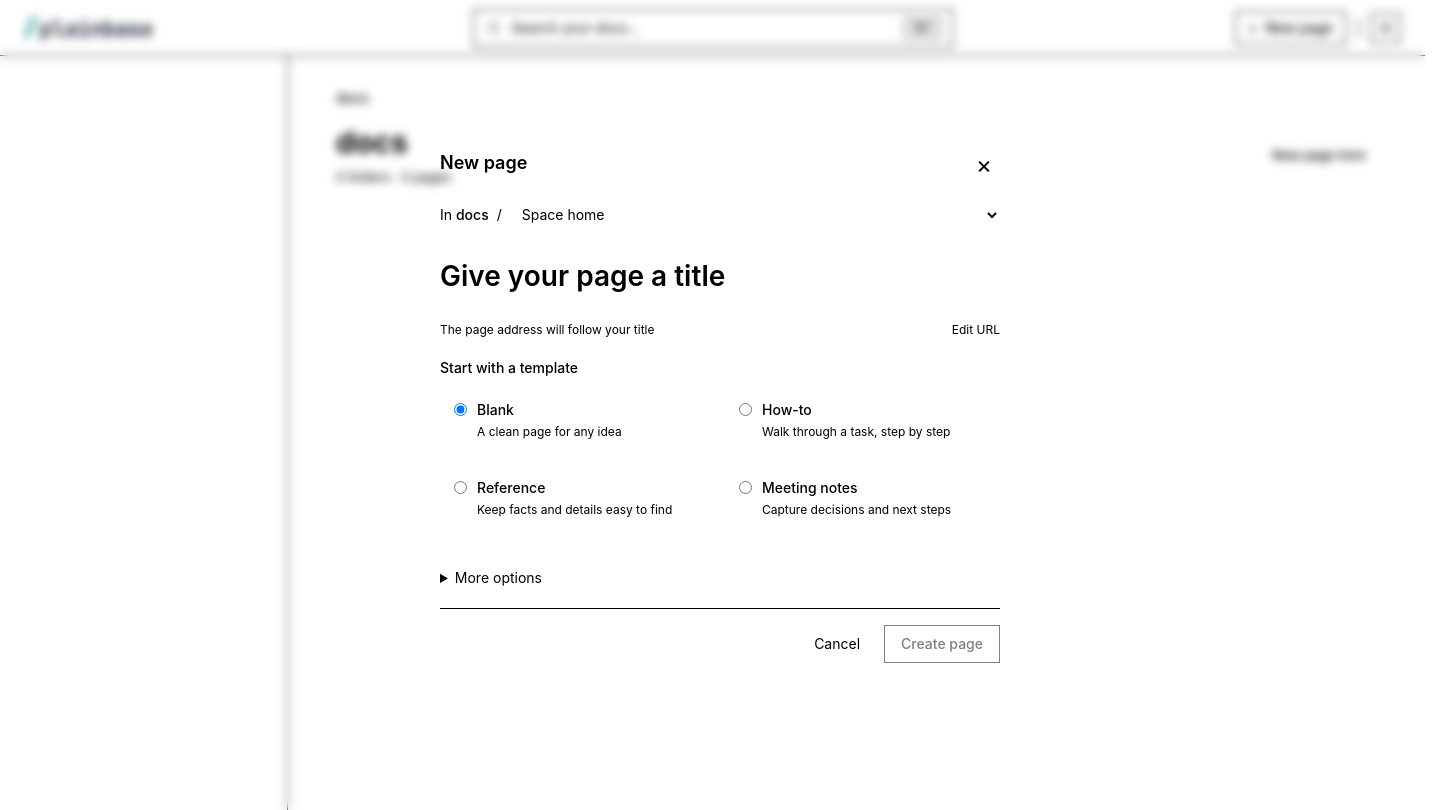
it: W6 new-page creation › a fetch rejection (offline) shows a save-failed notice instead of a silent error (FIX 4)
Expected: the element that starts with "New page" is shown, [440,147,1000,663]
Type "My New Page" into the field with placeholder "Give your page a title" at (720, 276), box [440,251,1000,302]
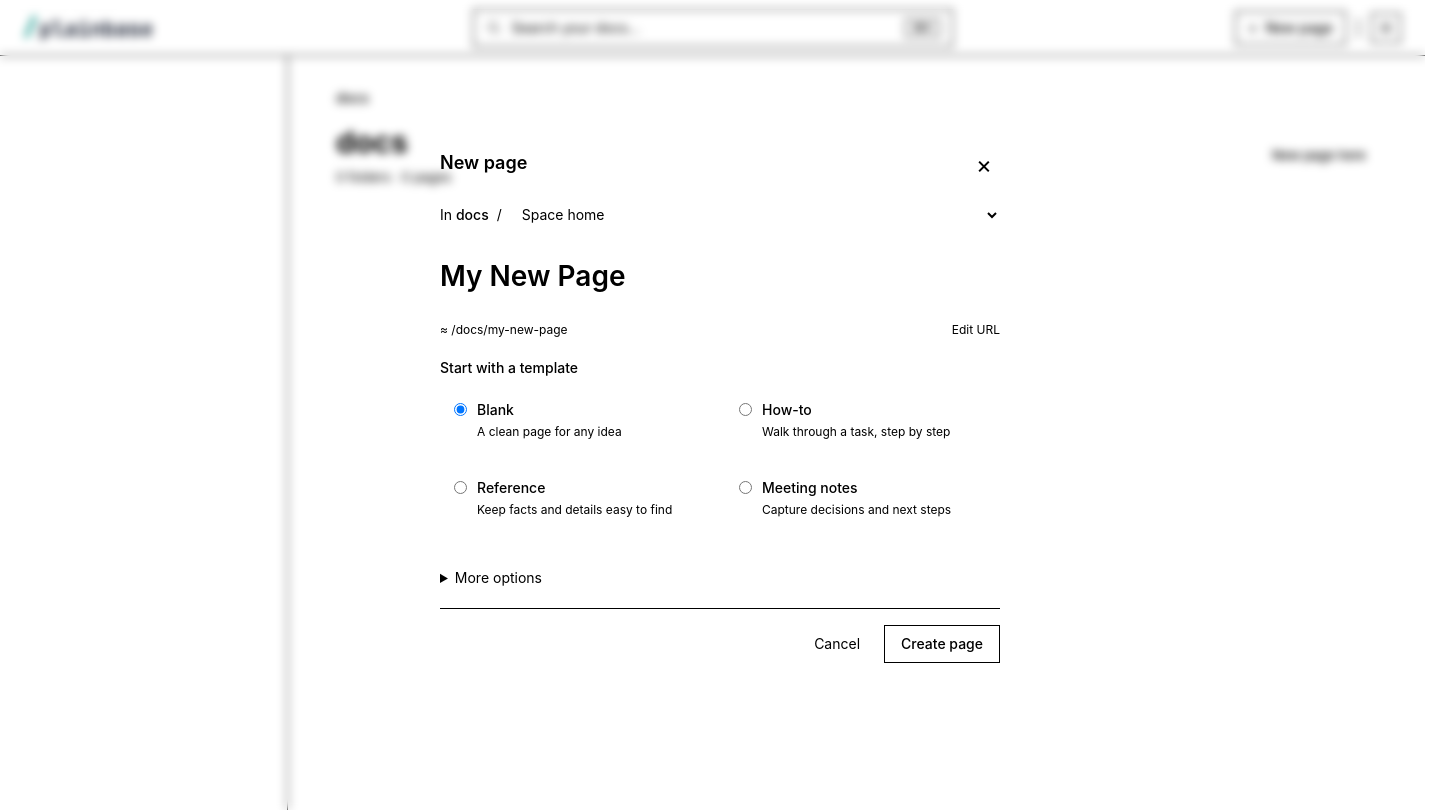
Click the button "Create page" at (942, 644), box [884,625,1000,663]
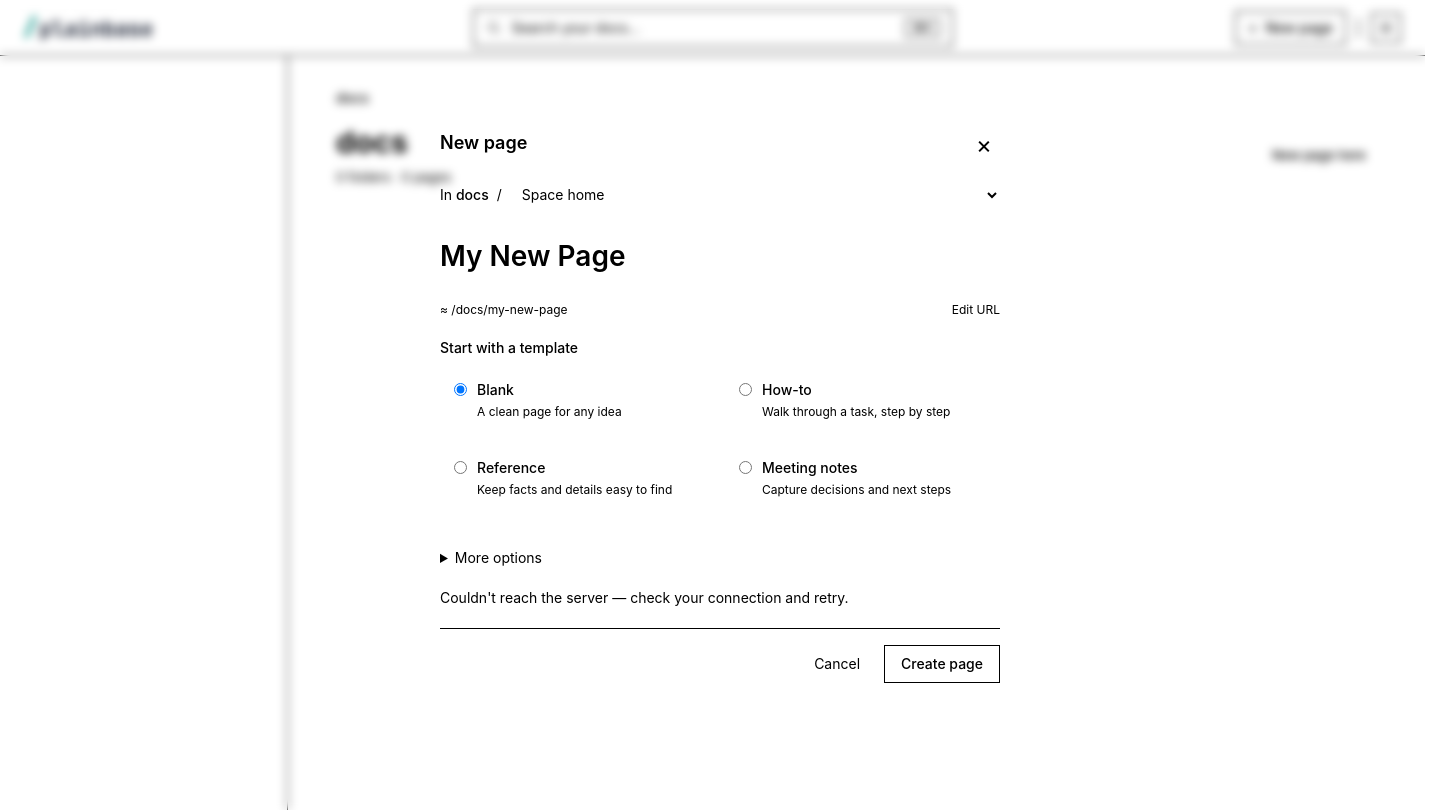
Expected: the button "Create page" is enabled, [884,645,1000,683]
Expected: the element that starts with "New page" shows "Couldn't reach the server", [440,589,849,606]
